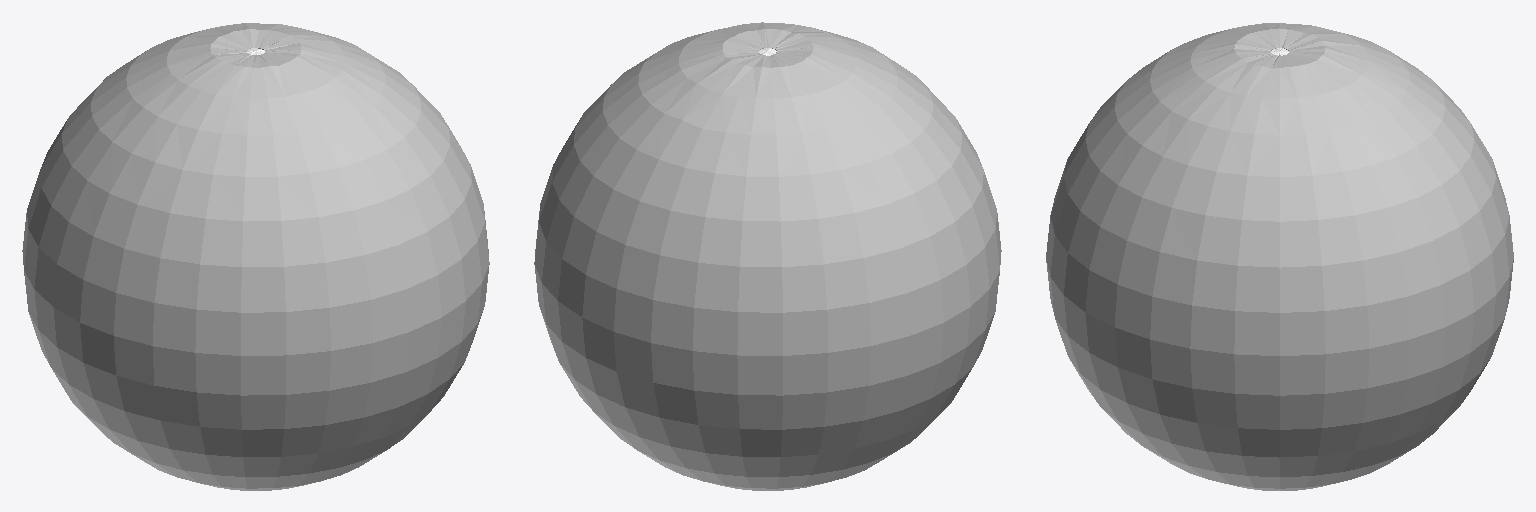
Rendered from OrangeTriangle.obj.
3 renders of one model, left to right at view 1: azimuth 30°, elevation 25°; view 2: azimuth 150°, elevation 25°; view 3: azimuth 270°, elevation 25°, orthographic.
Visible parts, largest first — view 1: Orange; view 2: Orange; view 3: Orange.
Boxes of the visible parts, box(x1,y1,x2,y2) form: Orange: box(22, 23, 489, 490); Orange: box(534, 22, 1001, 490); Orange: box(1046, 23, 1513, 490).
Size of the model in its own units: 2 by 1.96 by 2.